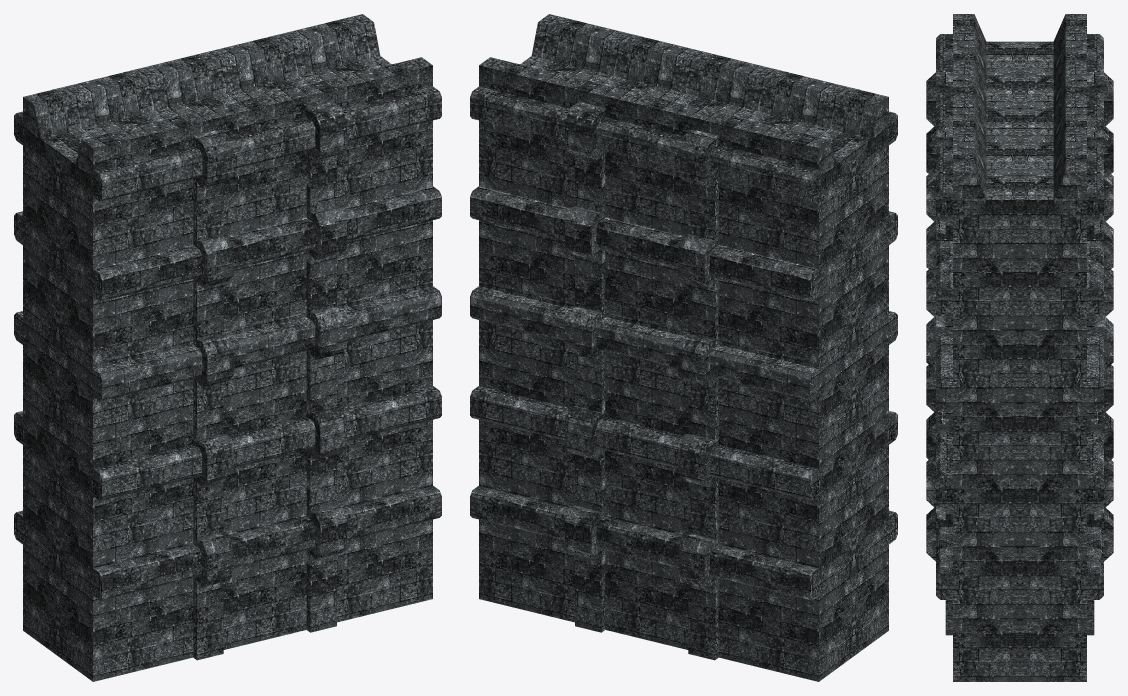
Rendered from Walls.fbx.
The picture shows the model from 3 angles, left to right: view 1: azimuth 30°, elevation 25°; view 2: azimuth 150°, elevation 25°; view 3: azimuth 270°, elevation 25°; orthographic projection. The views are drawn at different scales.
Parts seen in each view (by area): view 1: Export; view 2: Export; view 3: Export.
Part boxes in pixels (x1,y1,x2,y2): Export: [14, 14, 441, 681]; Export: [470, 14, 897, 681]; Export: [926, 14, 1113, 681].
Size of the model in its own units: 3000 by 2000 by 1000.
